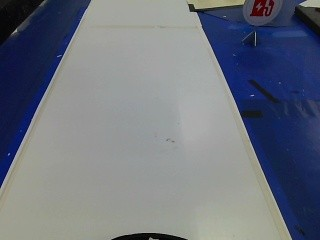battery: (239, 0, 283, 26)
